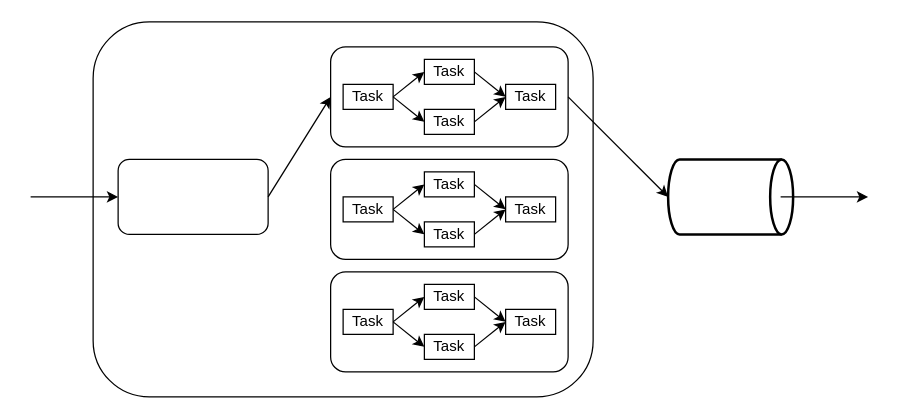
This 900x419 diagram has some shape labels left out. The shapes that lost their labels are listed below. From the top down, each one's box as (x1, y1, x2, y2) in pixels, then its label:
(117, 158, 268, 234): Orchestrator
(666, 158, 794, 235): Queue
